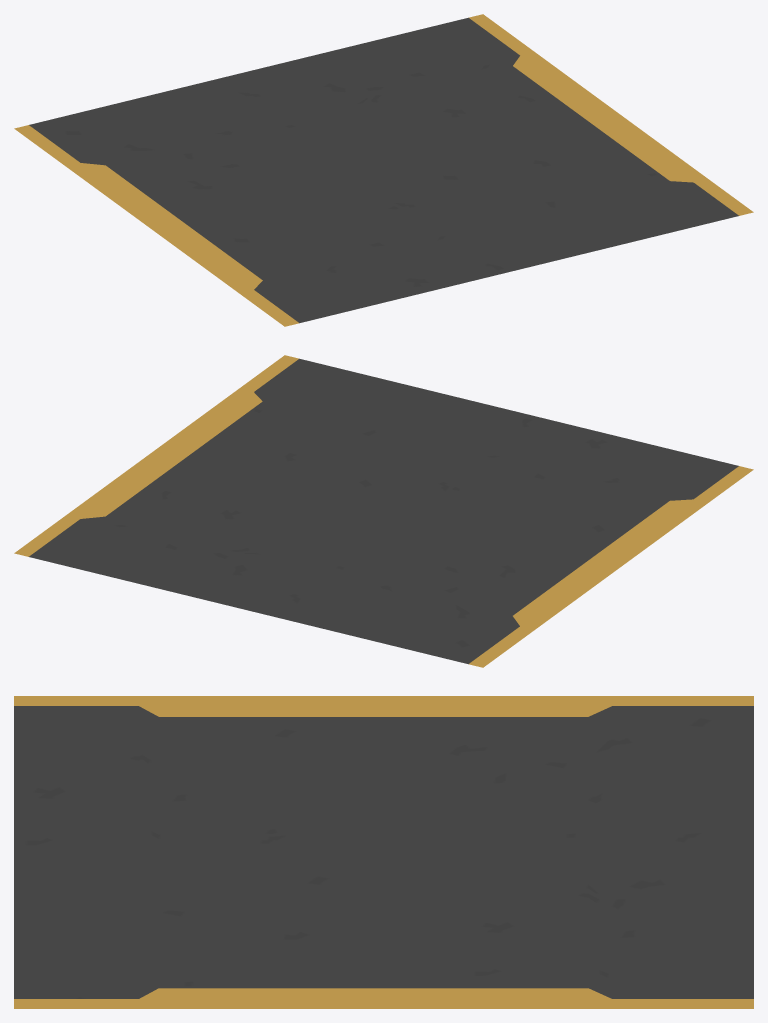
The model's file is SM_Env_Road_Lines_01_SF.fbx.
3 views of the same model, one above another, from view 1: azimuth 30°, elevation 25°; view 2: azimuth 150°, elevation 25°; view 3: azimuth 270°, elevation 25° (orthographic). The views are drawn at different scales.
Visible parts, largest first — view 1: SM_Env_Road_Lines_01_SF; view 2: SM_Env_Road_Lines_01_SF; view 3: SM_Env_Road_Lines_01_SF.
Boxes of the visible parts, x1,y1,x2,y2 form: SM_Env_Road_Lines_01_SF: [14, 14, 753, 326]; SM_Env_Road_Lines_01_SF: [14, 355, 753, 667]; SM_Env_Road_Lines_01_SF: [14, 696, 753, 1008].
Size of the model in its own units: 500 by 0 by 500.
